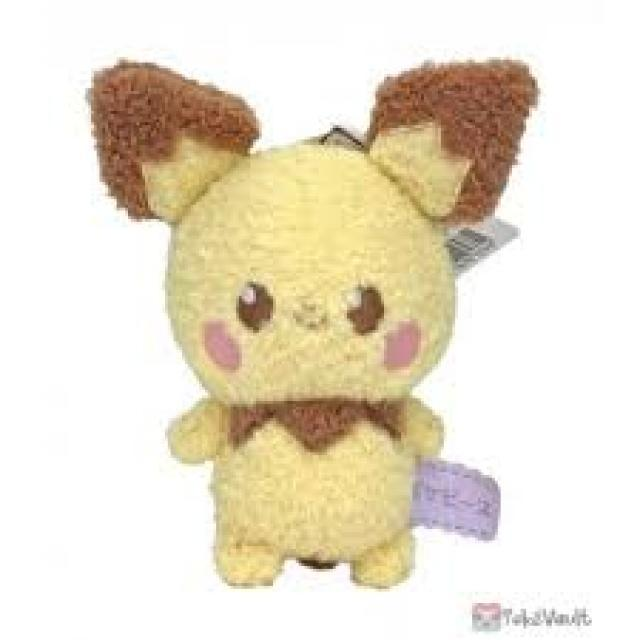pichu: (78, 68, 574, 582)
